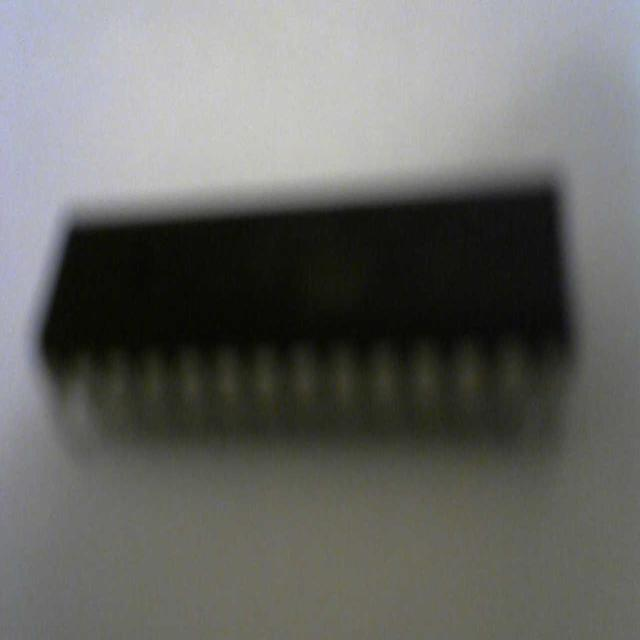atmega: (35, 177, 575, 457)
